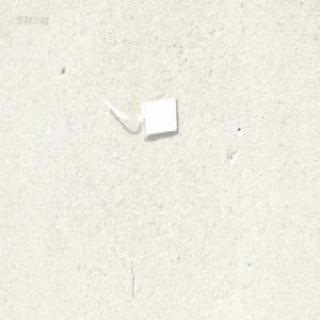LuggageTagtrack_idkeyframe: (103, 78, 179, 139)
